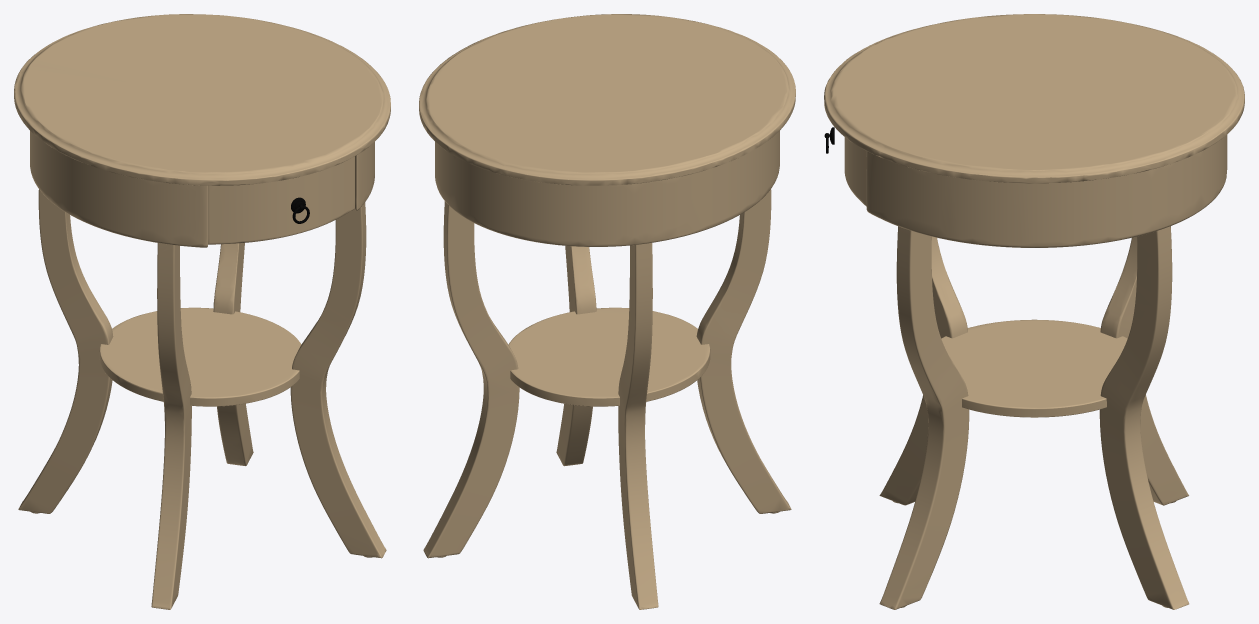
3 views of the same model, side by side, from view 1: azimuth 30°, elevation 25°; view 2: azimuth 150°, elevation 25°; view 3: azimuth 270°, elevation 25° (orthographic). The views are drawn at different scales.
Parts seen in each view (by area): view 1: not_clear_obj_0_v6; view 2: not_clear_obj_0_v6; view 3: not_clear_obj_0_v6.
Boxes of the visible parts, x1,y1,x2,y2 form: not_clear_obj_0_v6: (14, 14, 390, 609); not_clear_obj_0_v6: (419, 14, 795, 609); not_clear_obj_0_v6: (824, 14, 1244, 609).
Size of what is drawn, in the model's own units: 59.79 by 78.73 by 65.12.
